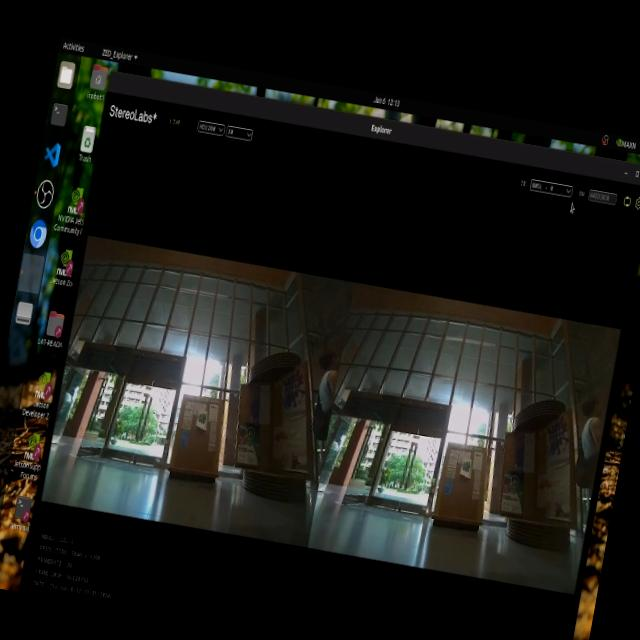green: (192, 406, 210, 432), (460, 458, 471, 476)
